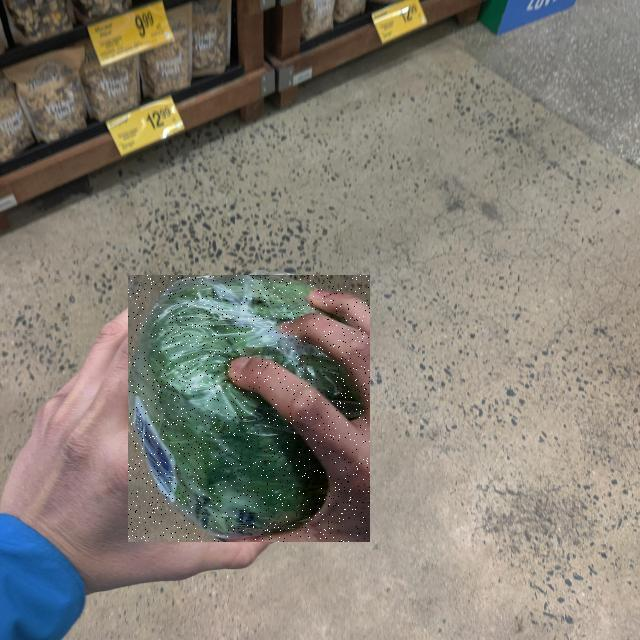Lettuce: (128, 275, 370, 542)
